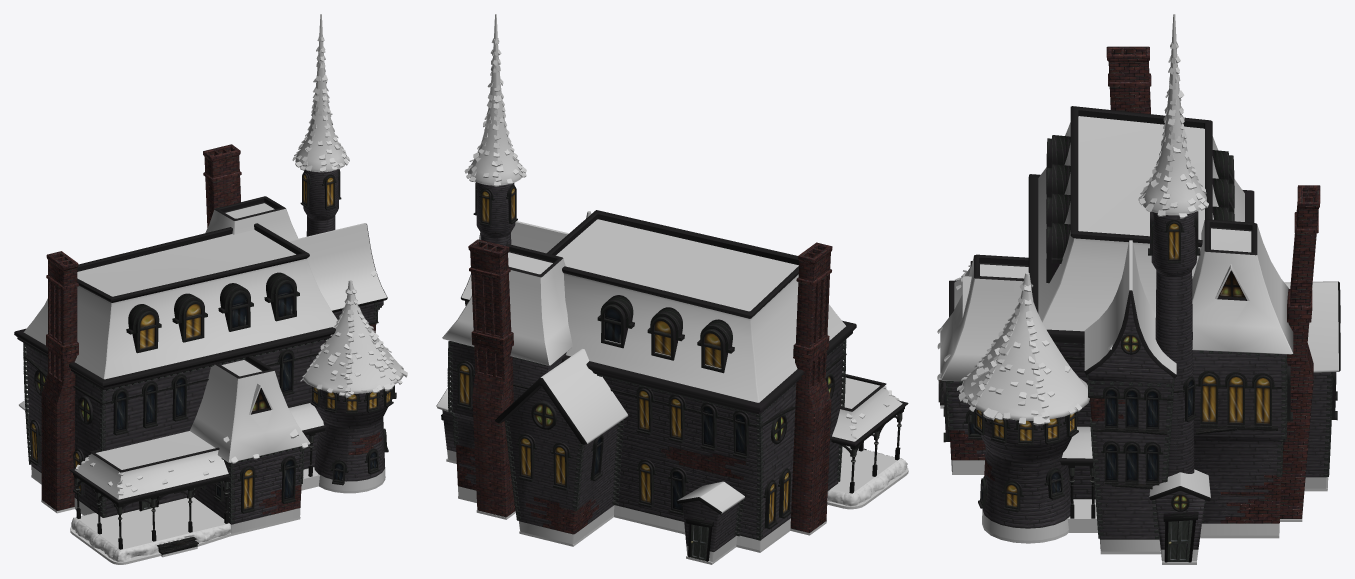
The model's file is Haunted House.fbx.
3 renders of one model, left to right at view 1: azimuth 30°, elevation 25°; view 2: azimuth 150°, elevation 25°; view 3: azimuth 270°, elevation 25°, orthographic. The views are drawn at different scales.
Parts seen in each view (by area): view 1: Roofs, Accents, Walls, Floors, Brick, Foundation; view 2: Roofs, Accents, Walls, Brick, Floors, Foundation; view 3: Roofs, Walls, Accents, Brick, Floors, Foundation.
Boxes of the visible parts, left/top/right/bottom form: Roofs: left=19, top=14, right=407, bottom=499; Accents: left=14, top=169, right=396, bottom=554; Walls: left=25, top=169, right=392, bottom=524; Floors: left=31, top=203, right=385, bottom=564; Brick: left=41, top=144, right=381, bottom=514; Foundation: left=31, top=466, right=385, bottom=561; Roofs: left=436, top=14, right=902, bottom=513; Accents: left=436, top=182, right=908, bottom=561; Walls: left=442, top=182, right=843, bottom=551; Brick: left=456, top=239, right=832, bottom=534; Floors: left=446, top=219, right=908, bottom=564; Foundation: left=447, top=449, right=907, bottom=561; Roofs: left=937, top=14, right=1338, bottom=497; Walls: left=947, top=212, right=1330, bottom=549; Accents: left=938, top=106, right=1340, bottom=562; Brick: left=949, top=46, right=1320, bottom=523; Floors: left=940, top=116, right=1327, bottom=564; Foundation: left=951, top=460, right=1328, bottom=561.
Size of the model in its own units: 1511 by 1782 by 1235.
